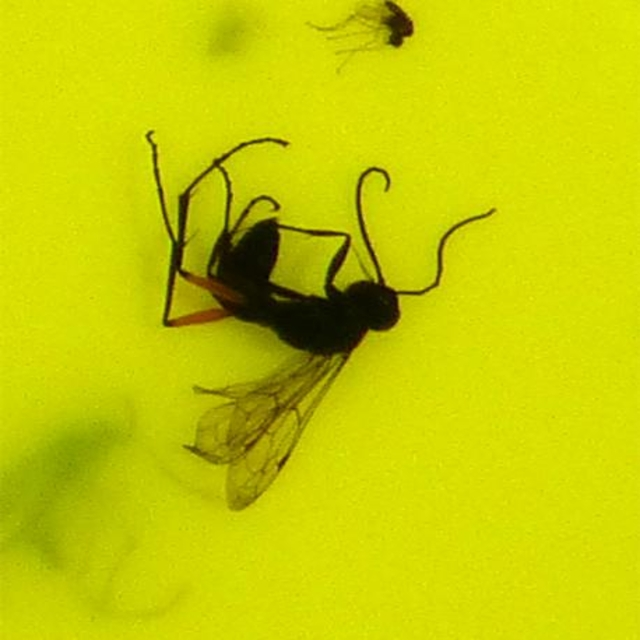Hymenoptera: (140, 127, 500, 513)
